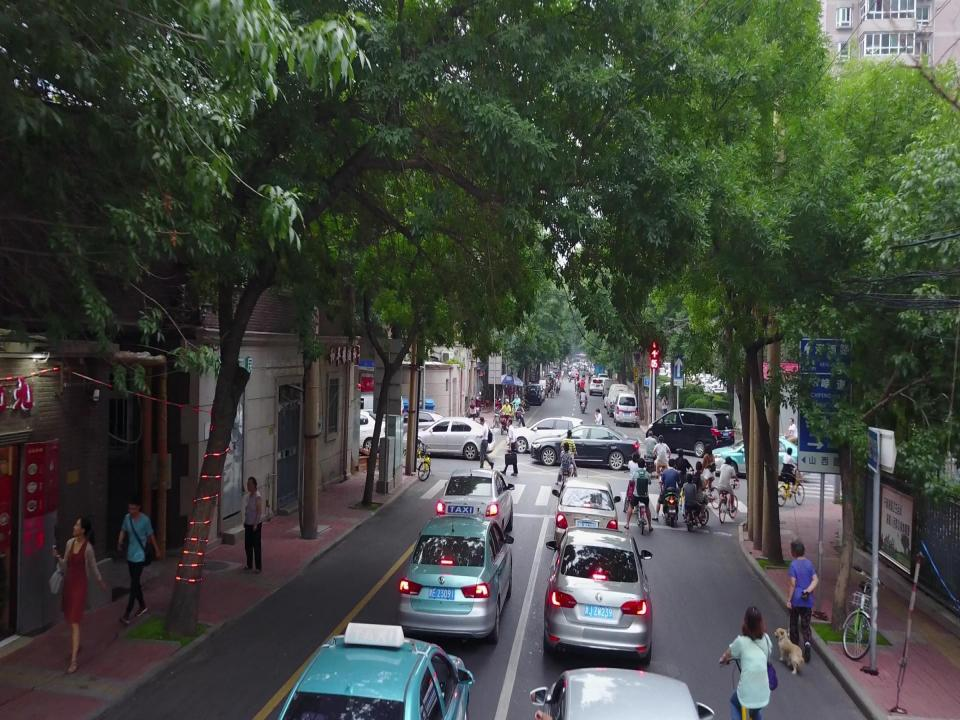car: (394, 513, 512, 647), (544, 529, 654, 666), (436, 467, 512, 549), (553, 477, 619, 561), (646, 406, 734, 458), (530, 427, 641, 468), (712, 437, 807, 480), (401, 418, 495, 461), (506, 416, 596, 452), (383, 410, 451, 441), (612, 394, 640, 426), (588, 378, 605, 394)
van: (606, 386, 630, 414), (525, 384, 545, 407)
